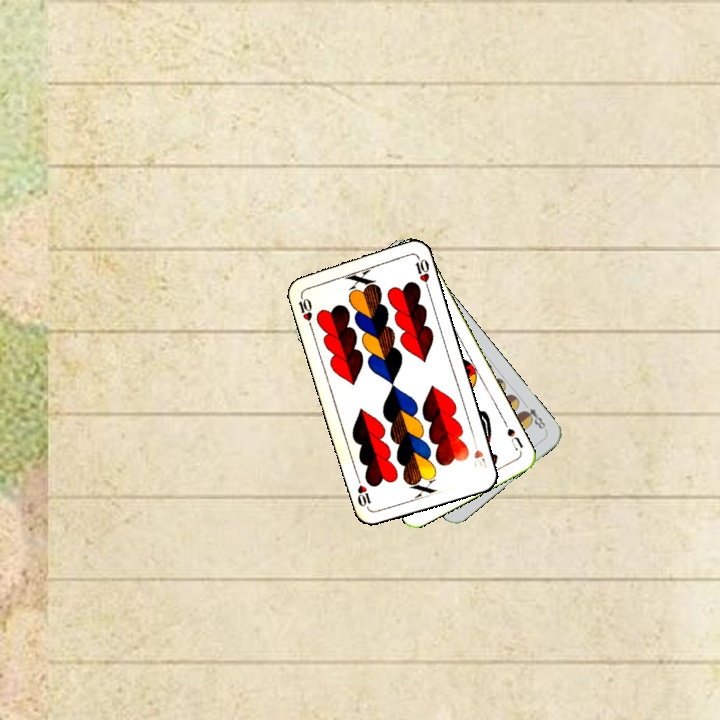E8: (518, 399, 549, 433)
H10: (294, 290, 315, 330), (469, 435, 490, 472)
SU: (500, 418, 526, 455)
